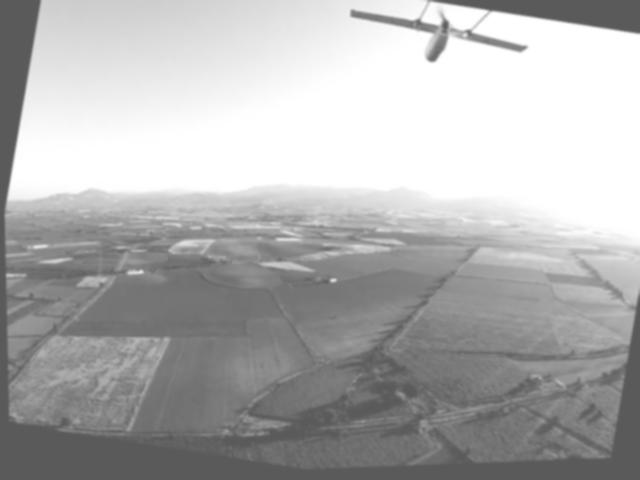hedef: (332, 0, 538, 106)
